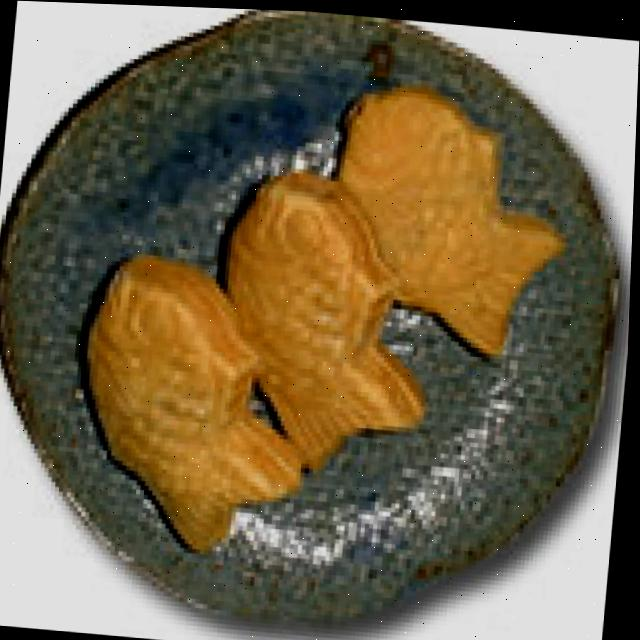熟制海鲜: (57, 58, 574, 574)
